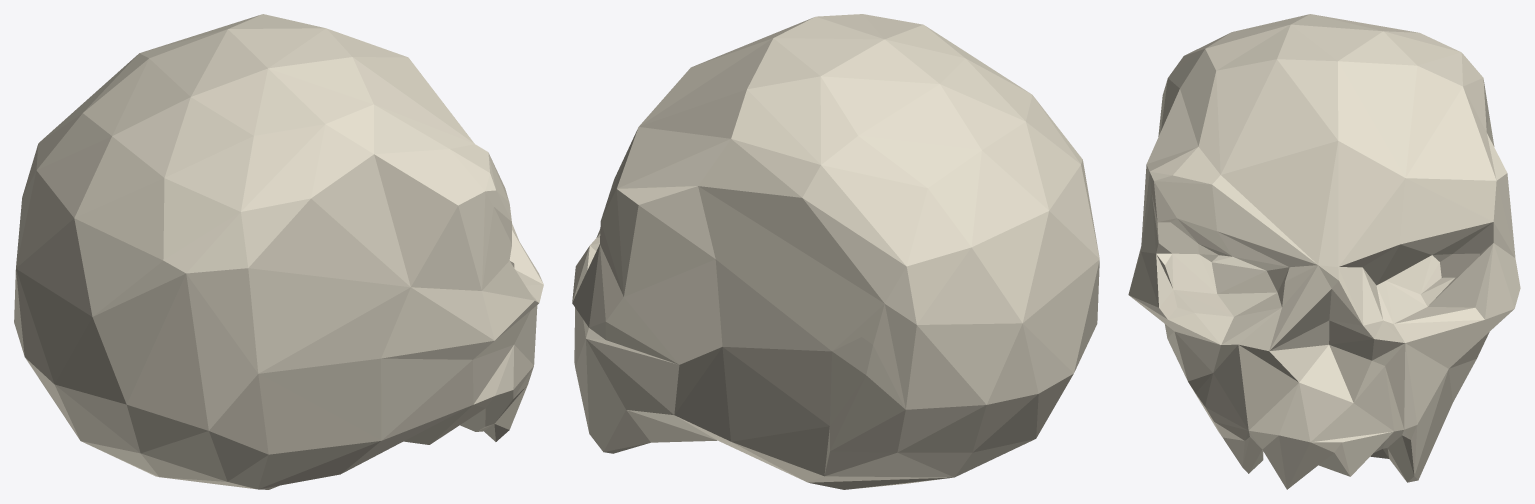
Rendered from Skull.fbx.
3 renders of one model, left to right at view 1: azimuth 30°, elevation 25°; view 2: azimuth 150°, elevation 25°; view 3: azimuth 270°, elevation 25°, orthographic. The views are drawn at different scales.
Parts seen in each view (by area): view 1: Skull; view 2: Skull; view 3: Skull.
Boxes of the visible parts, box(x1,y1,x2,y2) form: Skull: box(14, 14, 543, 489); Skull: box(572, 14, 1099, 489); Skull: box(1128, 14, 1520, 489).
Bounding box in the file's own units: 5.38 × 4.59 × 4.45.
